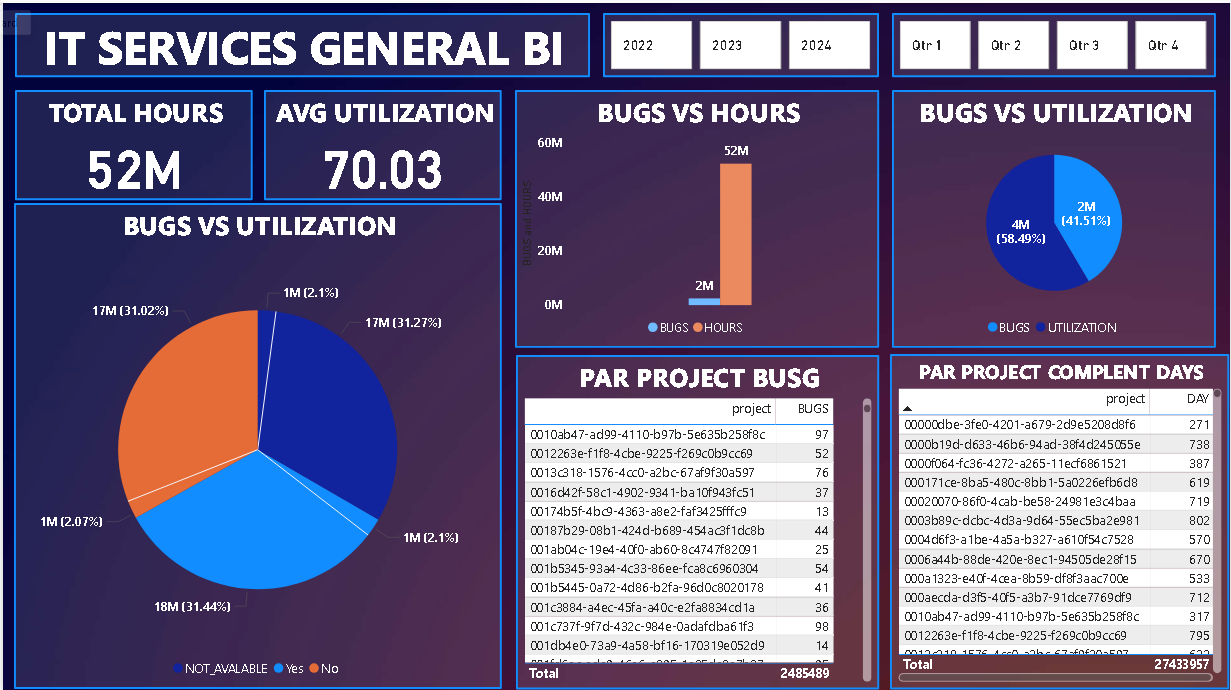

What the dashboard file says about the page in this screenshot:
{"tool":"powerbi","page":{"name":"Page 1","canvas":[1280,720],"ordinal":0},"visuals":[{"type":"textbox","title":"IT SERVICES GENERAL BI ","box":[12.2,10.7,600.2,67.4],"z":0},{"type":"advancedSlicerVisual","fields":{"Values":["IT.start_date.Variation.Date Hierarchy.Year"]},"box":[626.2,10.7,287.8,67.4],"z":1},{"type":"advancedSlicerVisual","fields":{"Values":["IT.start_date.Variation.Date Hierarchy.Quarter"]},"box":[927.8,10.7,338.4,67.4],"z":2},{"type":"card","title":"AVG UTILIZATION","fields":{"Values":["Avg(IT.resource_utilization)"]},"box":[272.5,90.3,248,114.8],"z":3},{"type":"card","title":"TOTAL HOURS","fields":{"Values":["Sum(IT.hours_billed)"]},"box":[12.2,90.3,248,114.8],"z":4},{"type":"pieChart","title":"BUGS VS UTILIZATION","fields":{"Y":["Sum(IT.bugs_reported)","Sum(IT.resource_utilization)"]},"box":[927.8,90.3,338.4,269.5],"z":5},{"type":"pieChart","title":"BUGS VS UTILIZATION","fields":{"Category":["IT.sla_met"],"Y":["Sum(IT.resource_utilization)","Sum(IT.hours_billed)"]},"box":[11.9,208.7,508.6,507.2],"z":6},{"type":"clusteredColumnChart","title":"BUGS VS HOURS","fields":{"Y":["Sum(IT.bugs_reported)","Sum(IT.hours_billed)"]},"box":[534.4,90.3,379.7,269.5],"z":7},{"type":"tableEx","title":"PAR PROJECT BUSG","fields":{"Values":["IT.project_id","Sum(IT.bugs_reported)"]},"box":[535,367.2,379.1,348.7],"z":8},{"type":"tableEx","title":"PAR PROJECT COMPLENT  DAYS","fields":{"Values":["IT.project_id","Sum(IT.Column)"]},"box":[926,365.9,354,350.1],"z":9}]}

Visuals, with their boxes in screenshot pixels (x1, y1, x2, y2), scaled from the page's 1280x720 canvas onto the 1231x690 screenshot:
"IT SERVICES GENERAL BI " textbox: {"left": 12, "top": 10, "right": 589, "bottom": 75}
advancedSlicerVisual - IT.start_date.Variation.Date Hierarchy.Year: {"left": 602, "top": 10, "right": 879, "bottom": 75}
advancedSlicerVisual - IT.start_date.Variation.Date Hierarchy.Quarter: {"left": 892, "top": 10, "right": 1218, "bottom": 75}
"AVG UTILIZATION" card: {"left": 262, "top": 87, "right": 501, "bottom": 197}
"TOTAL HOURS" card: {"left": 12, "top": 87, "right": 250, "bottom": 197}
"BUGS VS UTILIZATION" pieChart: {"left": 892, "top": 87, "right": 1218, "bottom": 345}
"BUGS VS UTILIZATION" pieChart: {"left": 11, "top": 200, "right": 501, "bottom": 686}
"BUGS VS HOURS" clusteredColumnChart: {"left": 514, "top": 87, "right": 879, "bottom": 345}
"PAR PROJECT BUSG" tableEx: {"left": 515, "top": 352, "right": 879, "bottom": 686}
"PAR PROJECT COMPLENT  DAYS" tableEx: {"left": 891, "top": 351, "right": 1230, "bottom": 686}
